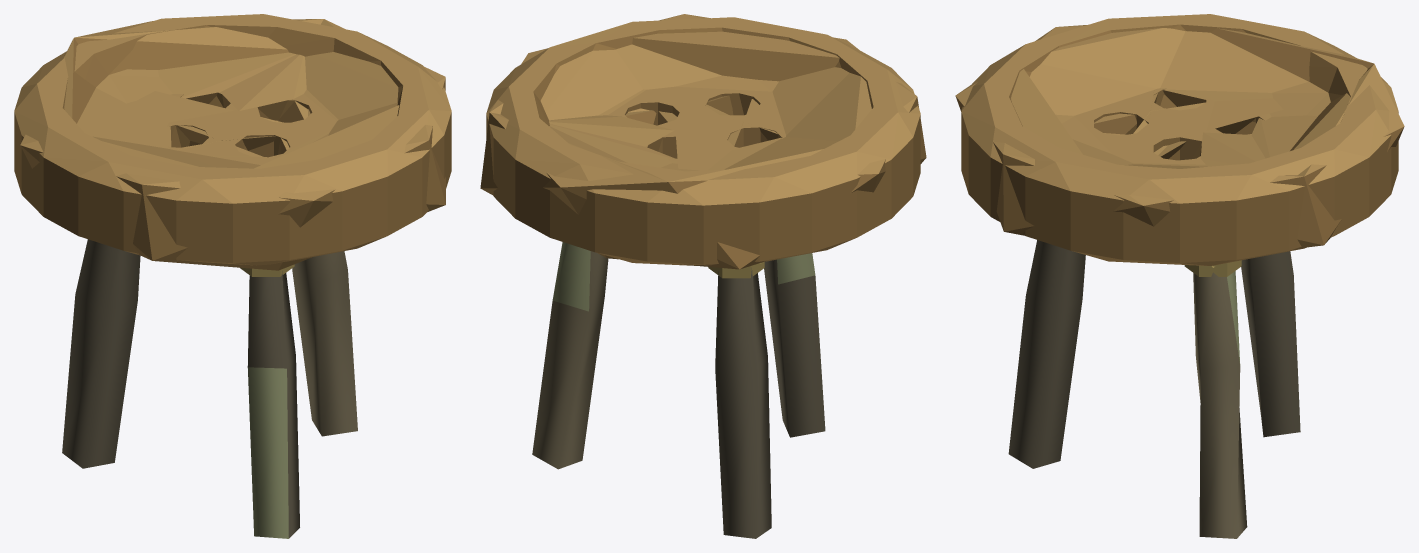
The model's file is pf_found_table.glb.
3 views of the same model, side by side, from view 1: azimuth 30°, elevation 25°; view 2: azimuth 150°, elevation 25°; view 3: azimuth 270°, elevation 25° (orthographic).
Parts seen in each view (by area): view 1: body, body__far; view 2: body, body__far; view 3: body, body__far.
Boxes of the visible parts, x1,y1,x2,y2 form: body: (14, 14, 451, 538); body__far: (20, 19, 445, 270); body: (486, 17, 920, 538); body__far: (480, 14, 926, 269); body: (961, 14, 1398, 538); body__far: (955, 25, 1404, 267).
Bounding box in the file's own units: 0.4519 × 0.4227 × 0.4519.
